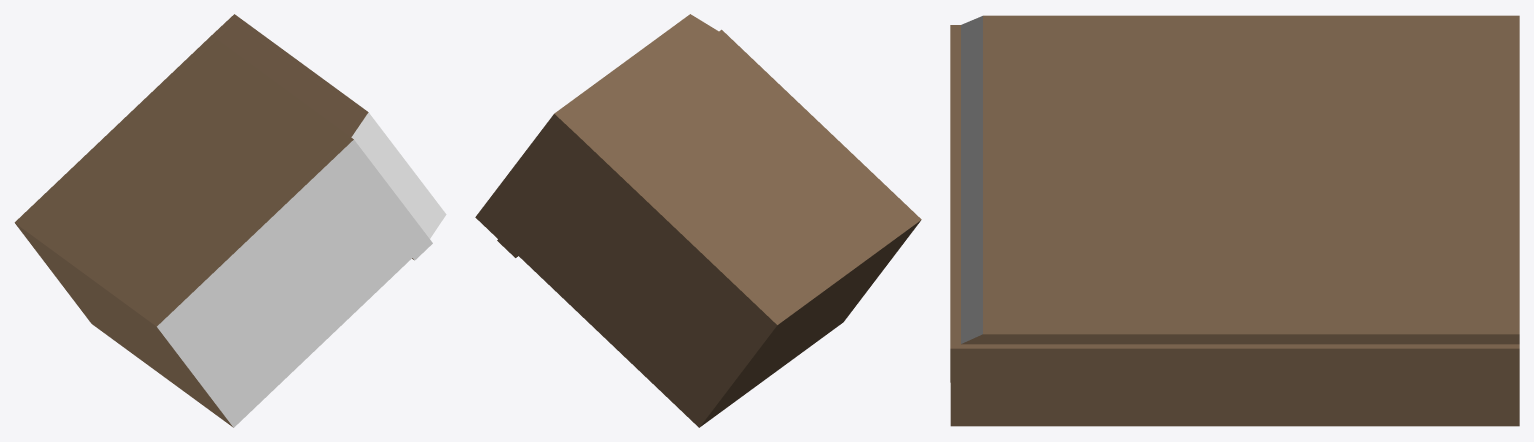
3 views of the same model, side by side, from view 1: azimuth 30°, elevation 25°; view 2: azimuth 150°, elevation 25°; view 3: azimuth 270°, elevation 25° (orthographic). The views are drawn at different scales.
Parts seen in each view (by area): view 1: City_1884852; view 2: City_1884852; view 3: City_1884852.
Boxes of the visible parts, x1,y1,x2,y2 form: City_1884852: [14, 14, 446, 427]; City_1884852: [475, 14, 921, 427]; City_1884852: [950, 15, 1519, 426].
Size of the model in its own units: 1631 by 1439 by 1349.
